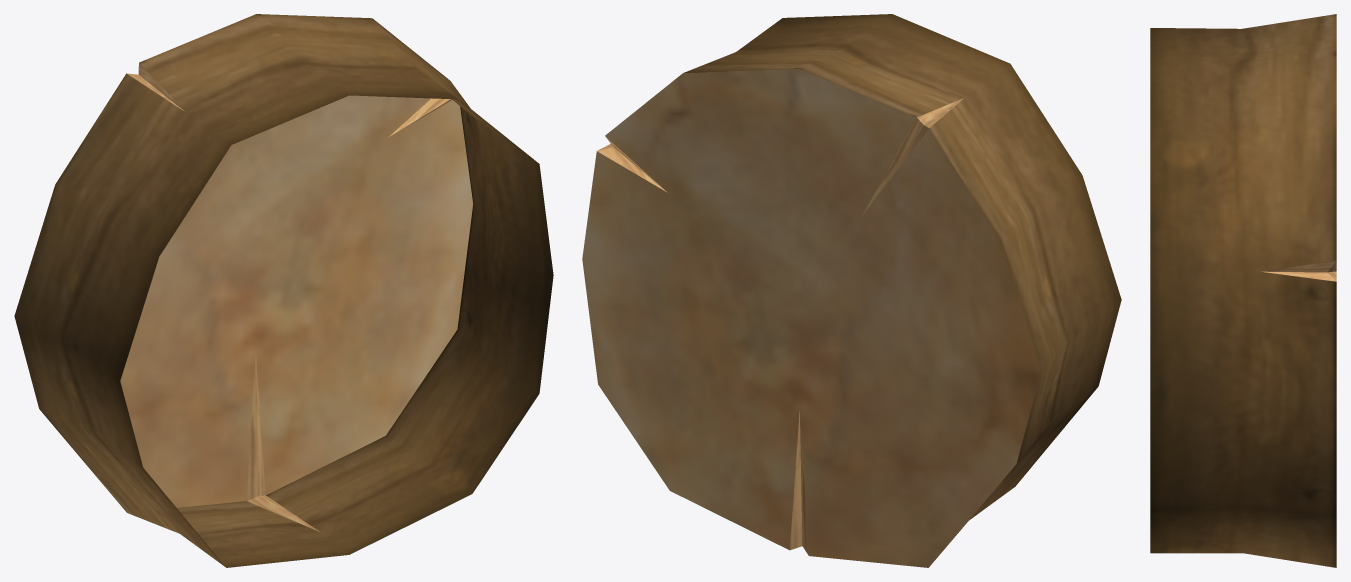
File: Log_Small_Table.fbx
3 views of the same model, side by side, from view 1: azimuth 30°, elevation 25°; view 2: azimuth 150°, elevation 25°; view 3: azimuth 270°, elevation 25° (orthographic).
Visible parts, largest first — view 1: Log_Small_Table; view 2: Log_Small_Table; view 3: Log_Small_Table.
Boxes of the visible parts, x1=… form: Log_Small_Table: x1=14, y1=14, x2=553, y2=567; Log_Small_Table: x1=582, y1=14, x2=1121, y2=567; Log_Small_Table: x1=1150, y1=14, x2=1336, y2=567.
Size of the model in its own units: 11.15 by 11.26 by 3.92.
